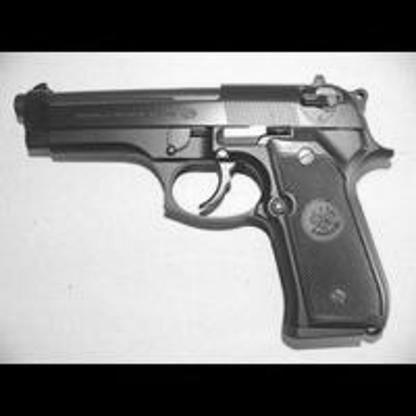weapon: (8, 74, 403, 354)
